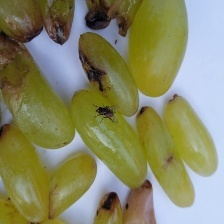grapes: (16, 53, 211, 200)
